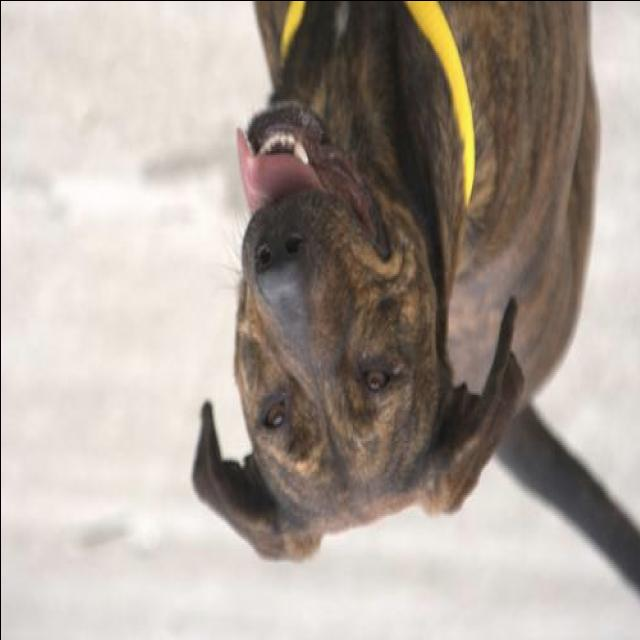rhodesian_ridgeback: (188, 2, 640, 606)
